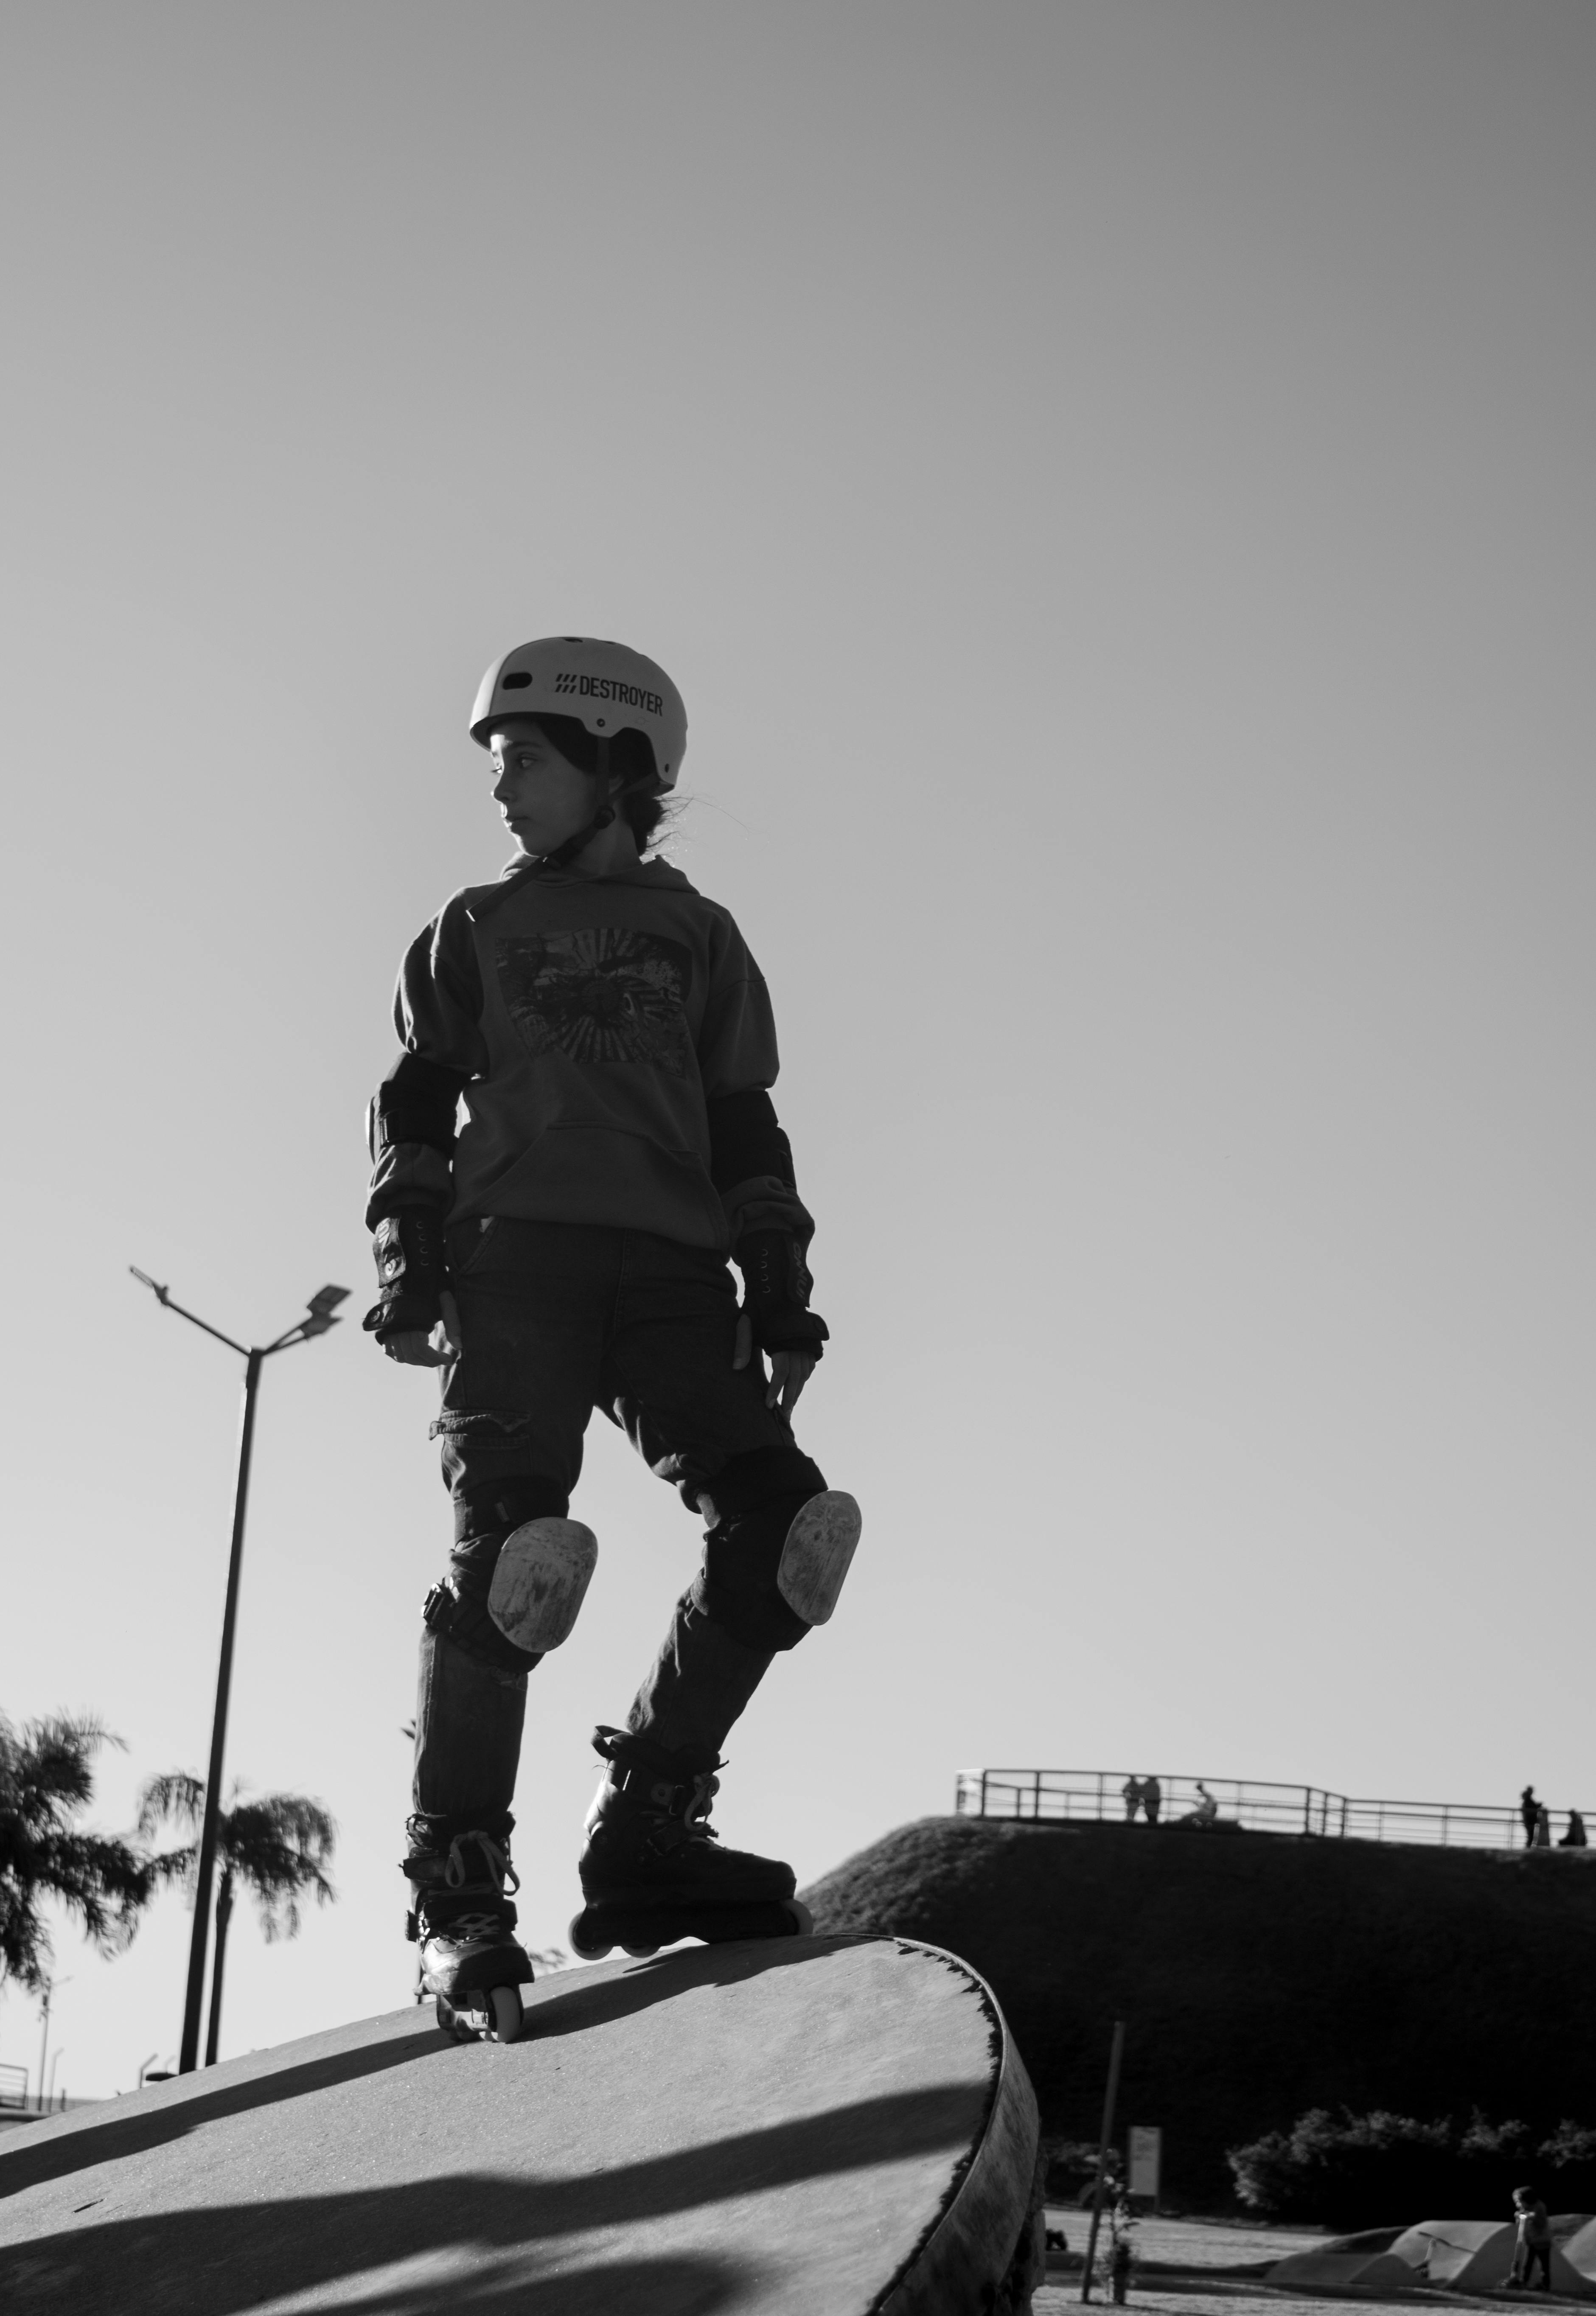capacete: (449, 628, 692, 797)
